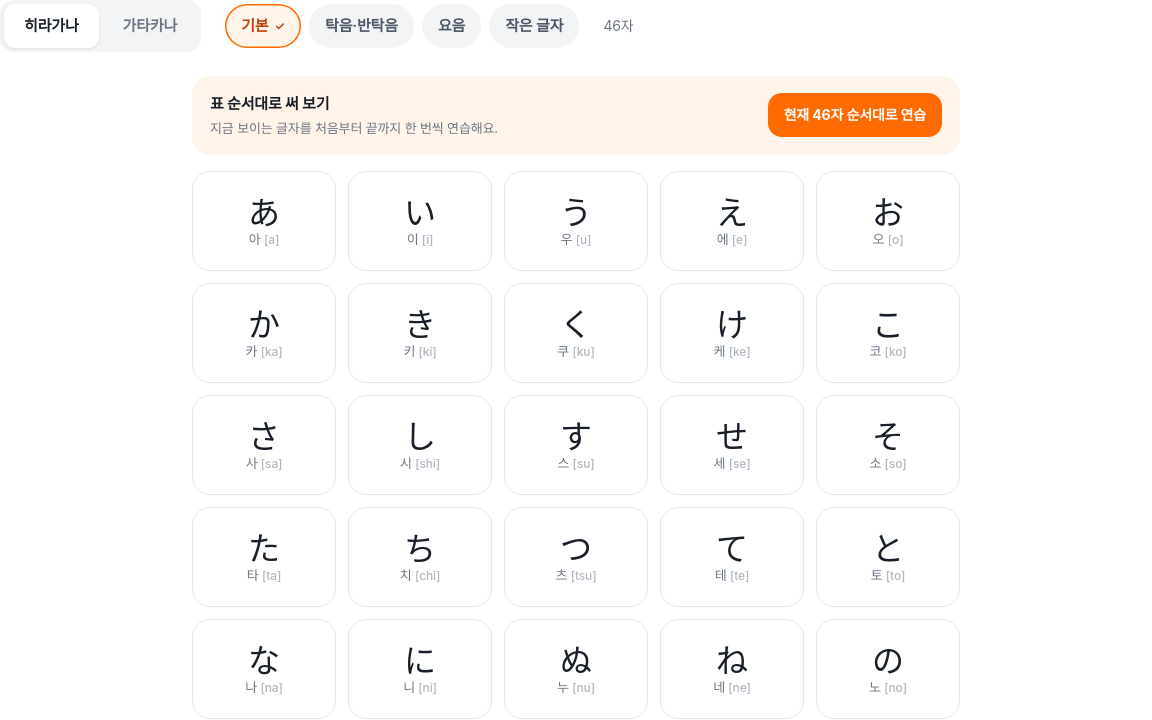
Test: closes on Escape and restores focus to the selected cell
Click the button named "あ, a, 아".
click(264, 221)  # box [192, 171, 336, 271]
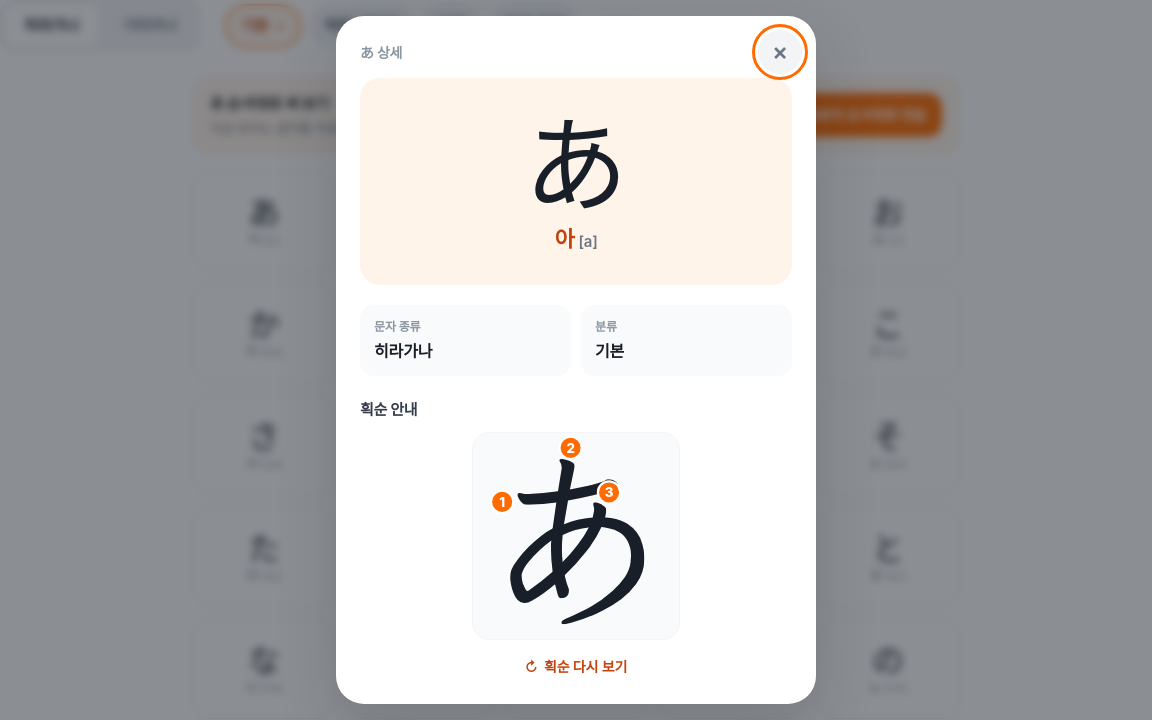
Press Escape
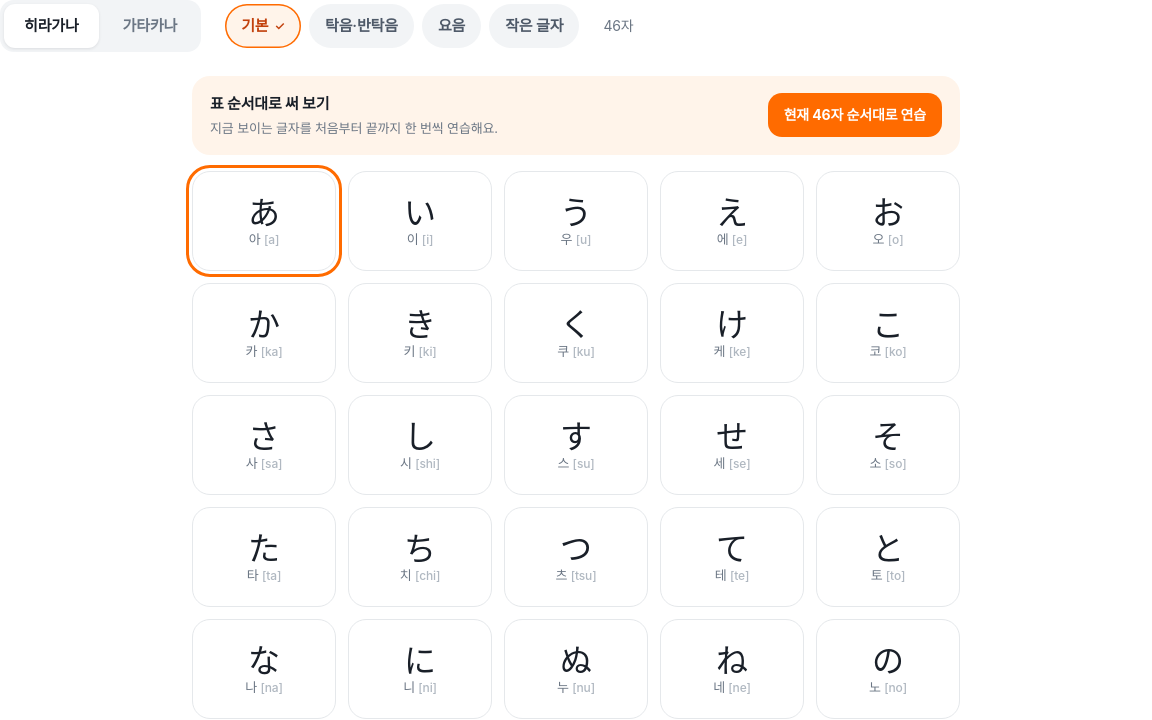
Expected: the dialog is gone
